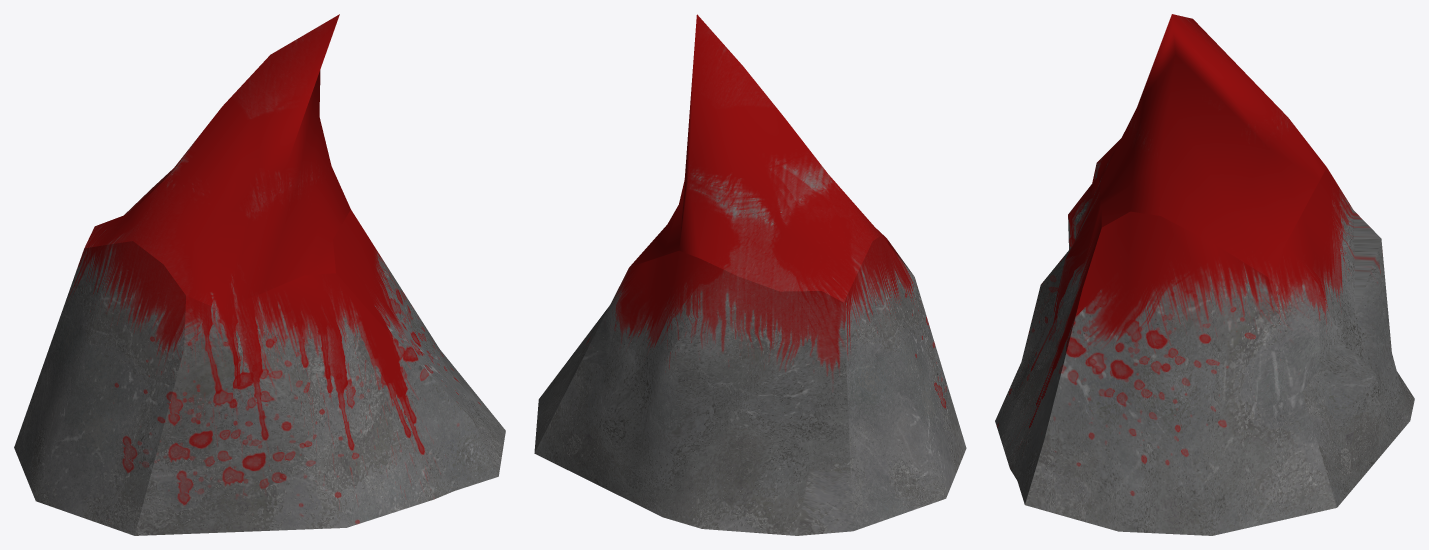
The model's file is ChaosZooClawL.fbx.
3 renders of one model, left to right at view 1: azimuth 30°, elevation 25°; view 2: azimuth 150°, elevation 25°; view 3: azimuth 270°, elevation 25°, orthographic. The views are drawn at different scales.
Parts seen in each view (by area): view 1: pCube34; view 2: pCube34; view 3: pCube34.
Part boxes in pixels (left/top/right/bottom): pCube34: left=14, top=14, right=505, bottom=535; pCube34: left=534, top=14, right=966, bottom=535; pCube34: left=995, top=14, right=1414, bottom=535.
Size of the model in its own units: 18.64 by 17.76 by 15.12.
